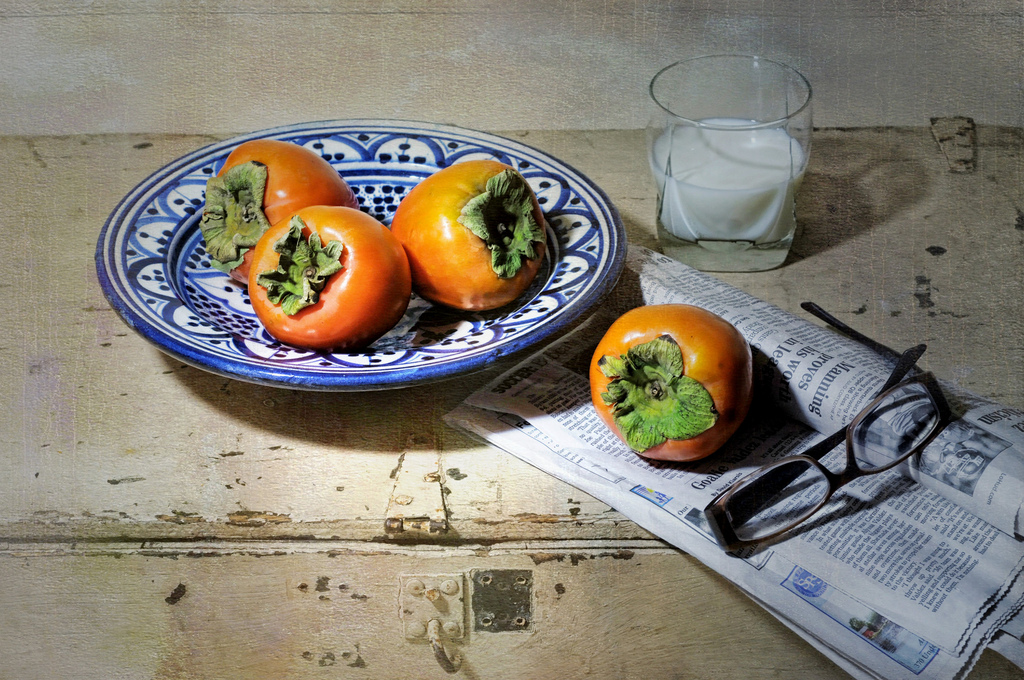glass of milk: (647, 61, 804, 265)
